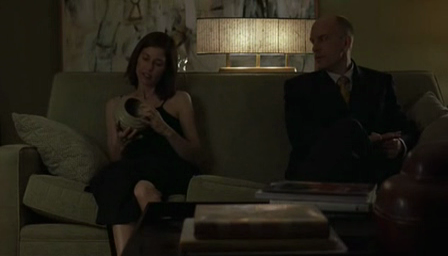face: (310, 24, 338, 71), (135, 49, 165, 85)
mls: (1, 1, 448, 256)
person: (89, 32, 213, 256), (284, 14, 425, 185)
